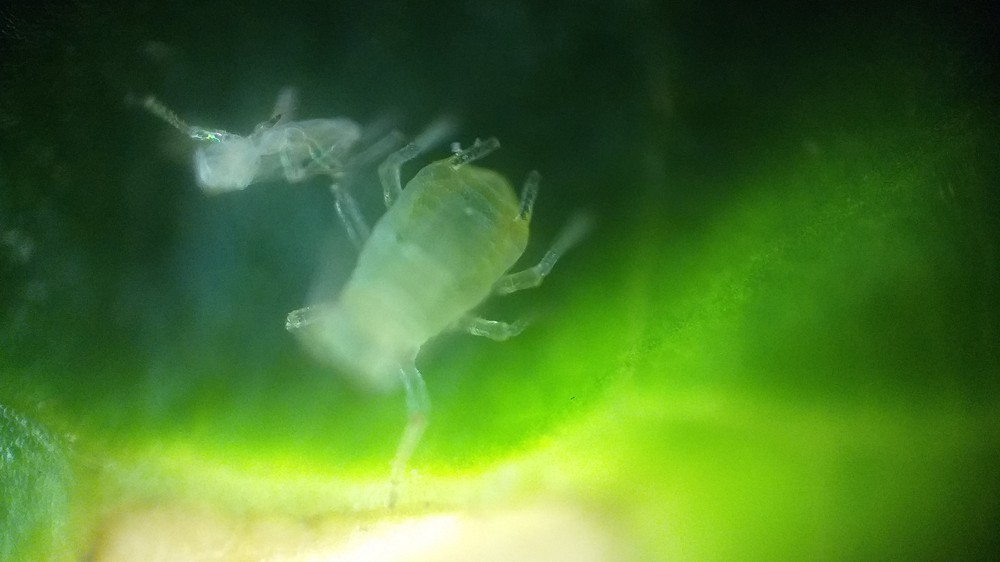Pulgon: (288, 117, 608, 495)
